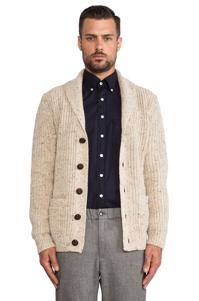C_cardigan sweater: (23, 69, 170, 266)
